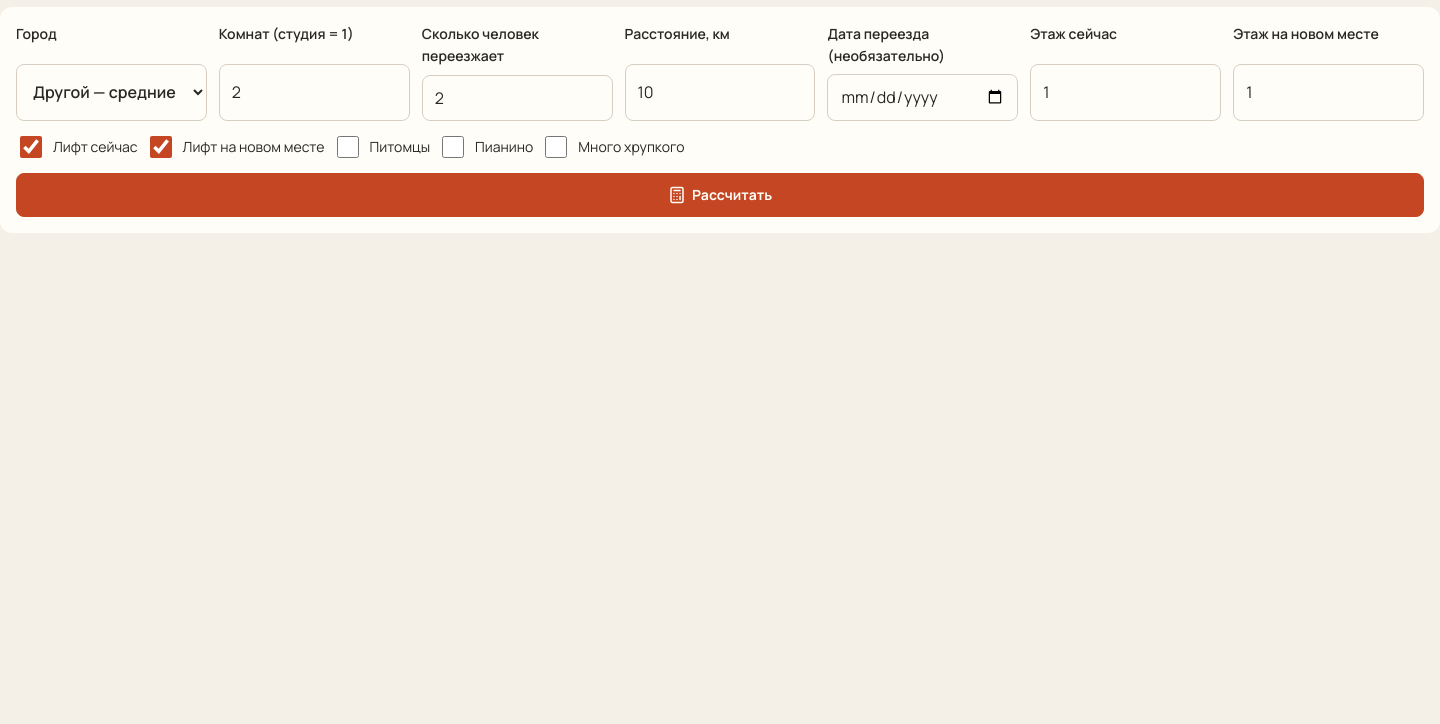
калькулятор › гость получает оценку и приглашение начать переезд
Click the button "Рассчитать". click: (720, 195)
box: [16, 173, 1424, 217]
(page scrolled)
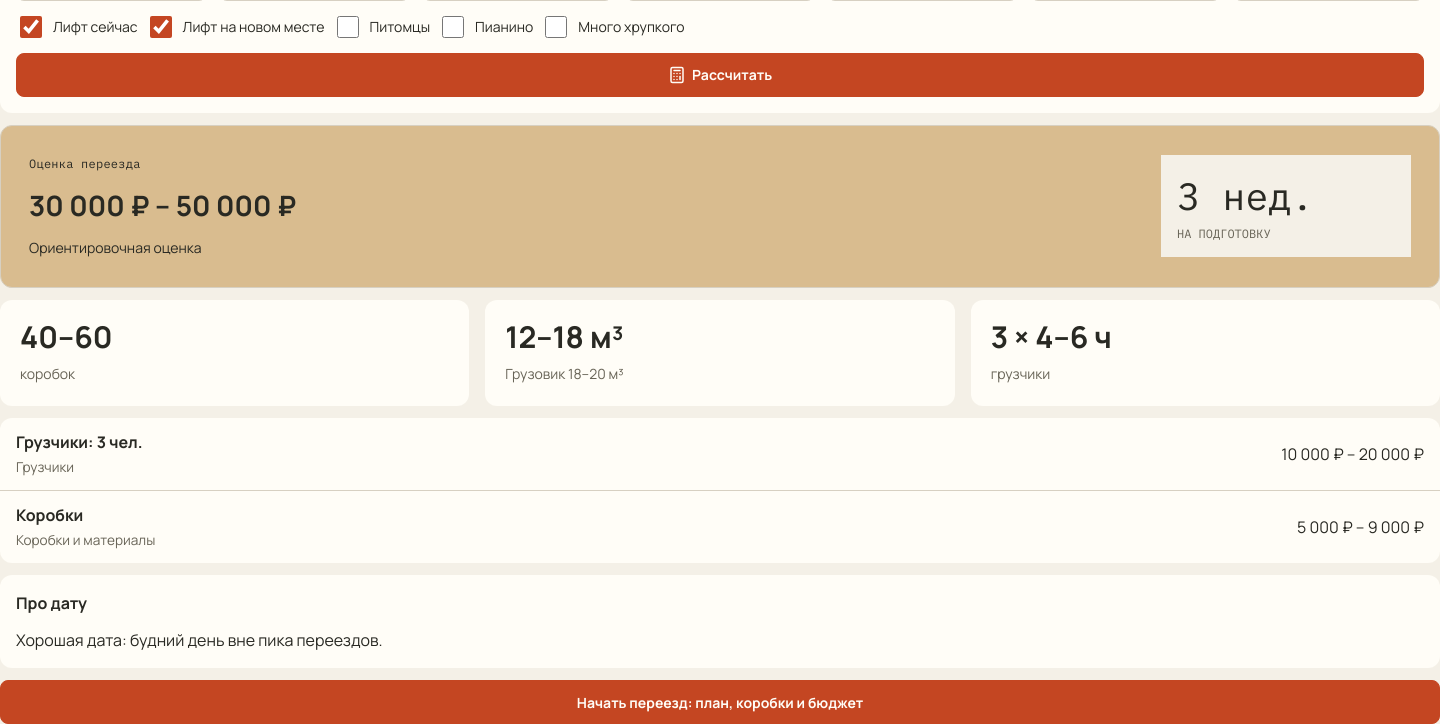
Expected: the heading "30 000 ₽ – 50 000 ₽" is shown, [29, 185, 296, 225]
Expected: the link "Начать переезд: план, коробки и бюджет" is shown, [0, 680, 1439, 723]
